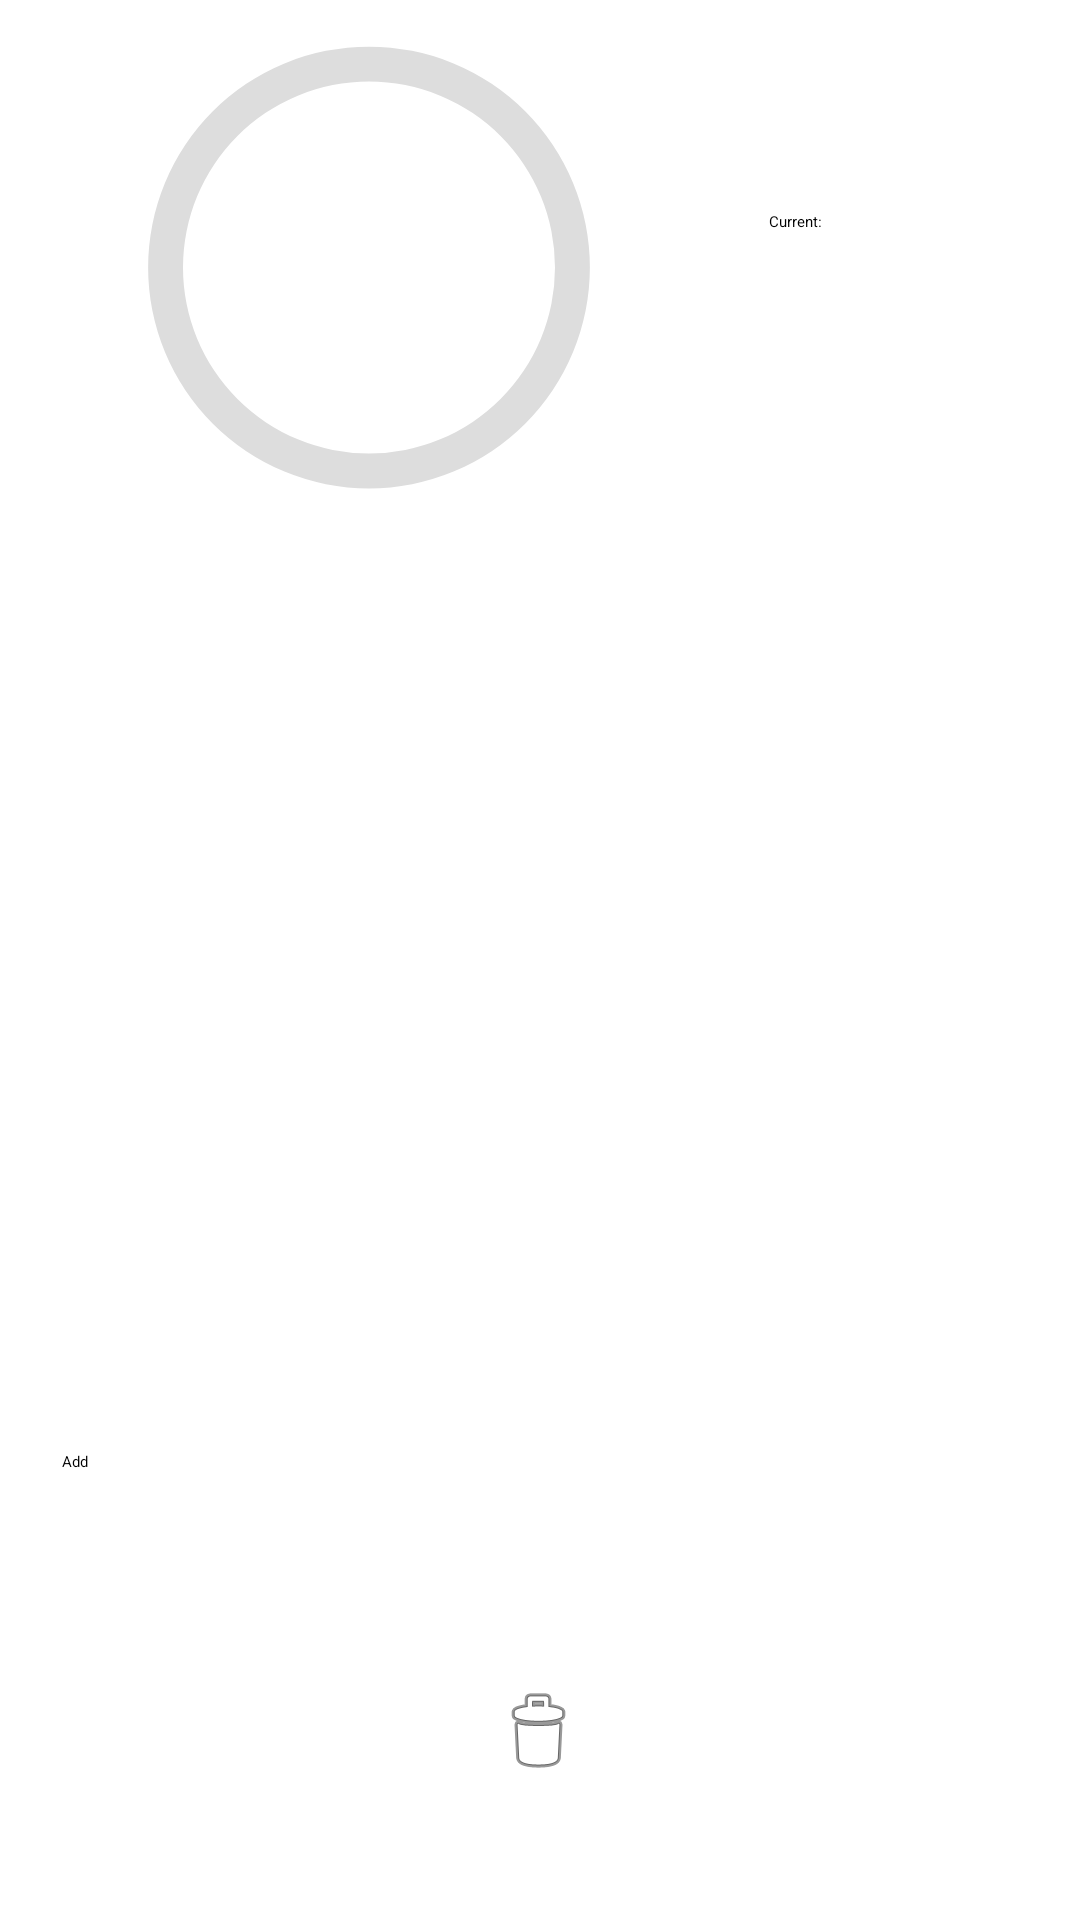

Named icons in this screenshot (1080w x 1920h) and their centers, point (x, y):
delete: point (538, 1730)
